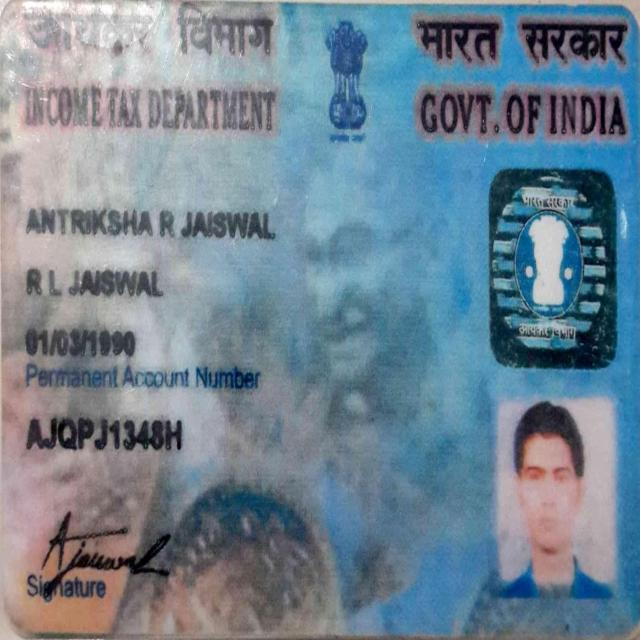pan_card: (4, 7, 636, 630)
